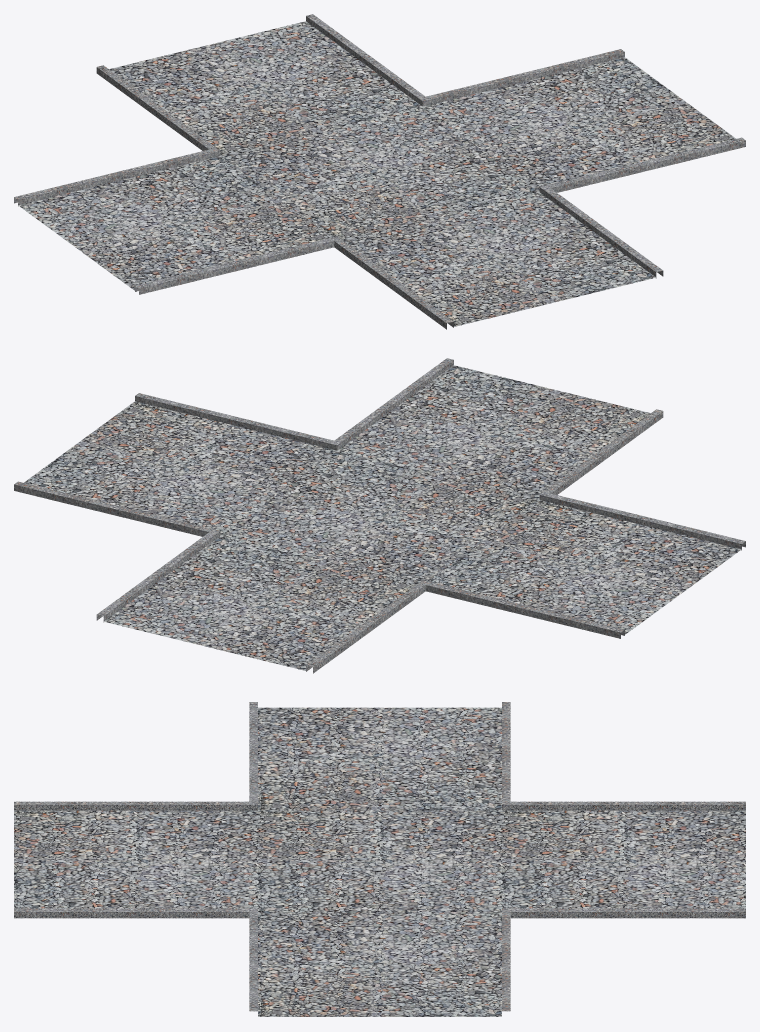
Rendered from crossroad.fbx.
3 renders of one model, top to bottom at view 1: azimuth 30°, elevation 25°; view 2: azimuth 150°, elevation 25°; view 3: azimuth 270°, elevation 25°, orthographic. The views are drawn at different scales.
Parts seen in each view (by area): view 1: CrossX; view 2: CrossX; view 3: CrossX.
Boxes of the visible parts, x1,y1,x2,y2 form: CrossX: (14,14,745,329); CrossX: (14,358,745,673); CrossX: (14,702,745,1016).
Size of the model in its own units: 3000 by 30 by 3000.
